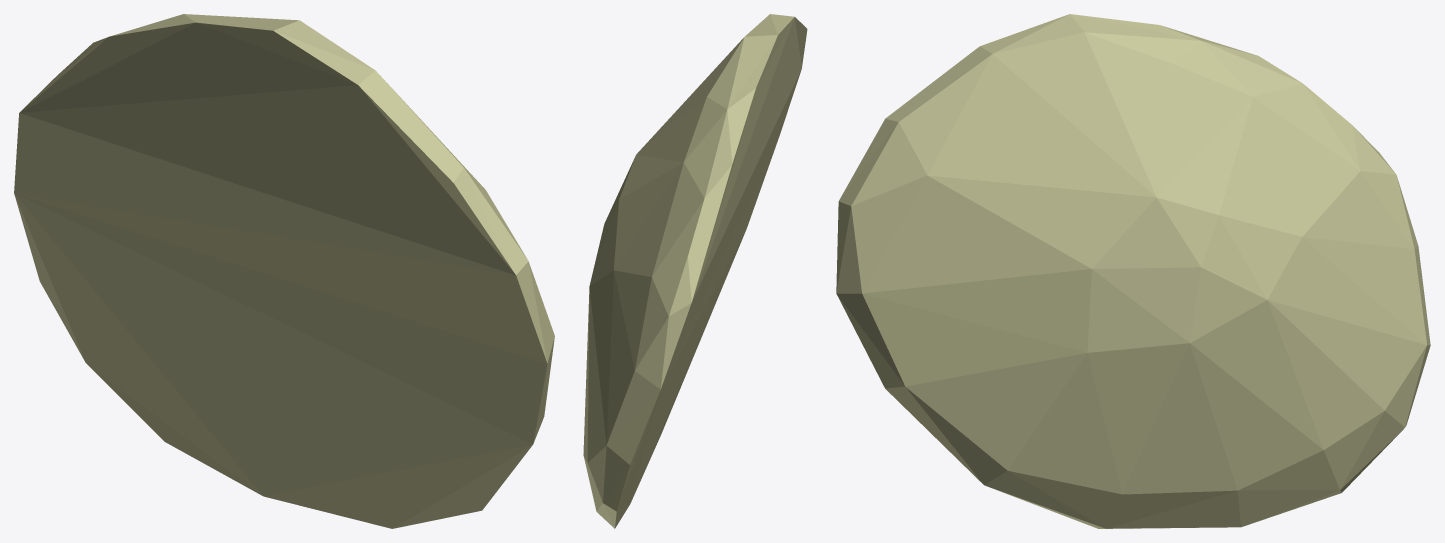
File: eye_r.dae
3 renders of one model, left to right at view 1: azimuth 30°, elevation 25°; view 2: azimuth 150°, elevation 25°; view 3: azimuth 270°, elevation 25°, orthographic. The views are drawn at different scales.
Visible parts, largest first — view 1: ant-eye-right; view 2: ant-eye-right; view 3: ant-eye-right.
Boxes of the visible parts, left/top/right/bottom form: ant-eye-right: left=14, top=14, right=554, bottom=528; ant-eye-right: left=583, top=14, right=807, bottom=528; ant-eye-right: left=836, top=14, right=1430, bottom=528.
Bounding box in the file's own units: 0.415 × 1 × 0.8842.
